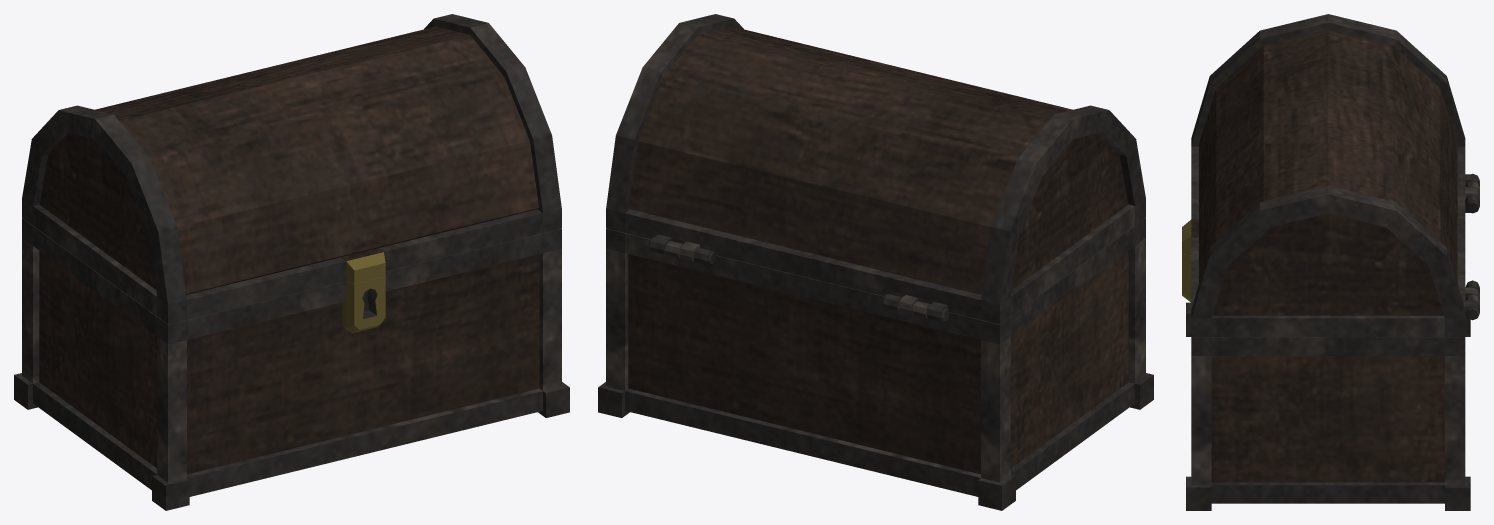
Rendered from Chest.glb.
3 renders of one model, left to right at view 1: azimuth 30°, elevation 25°; view 2: azimuth 150°, elevation 25°; view 3: azimuth 270°, elevation 25°, orthographic. The views are drawn at different scales.
Parts seen in each view (by area): view 1: Chest_Top, Chest_Bottom; view 2: Chest_Top, Chest_Bottom; view 3: Chest_Top, Chest_Bottom.
Part boxes in pixels (x1,y1,x2,y2): Chest_Top: [22, 14, 561, 324]; Chest_Bottom: [14, 218, 569, 510]; Chest_Top: [606, 14, 1145, 324]; Chest_Bottom: [598, 218, 1153, 510]; Chest_Top: [1182, 14, 1479, 336]; Chest_Bottom: [1182, 173, 1479, 510].
Bounding box in the file's own units: 1.26 × 0.9998 × 0.8587.
Materials: 3 (2 with a texture image).
